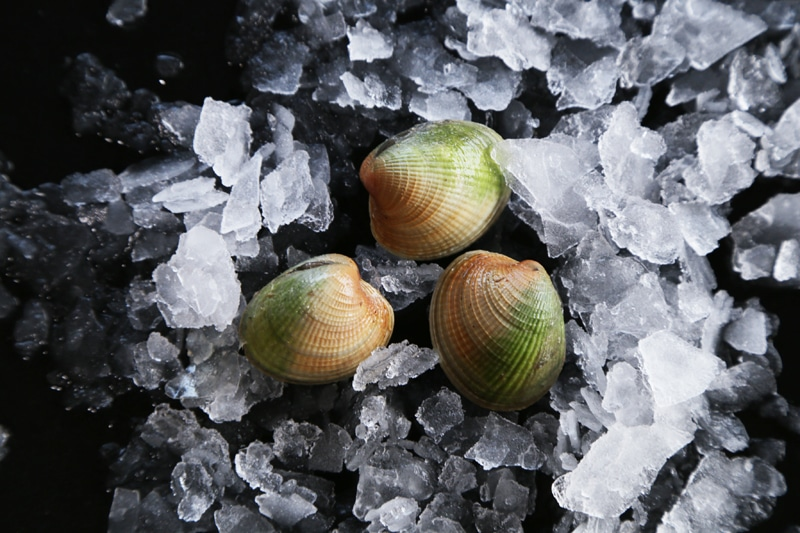cockle: (426, 245, 567, 414), (358, 118, 516, 260), (233, 250, 396, 377)
